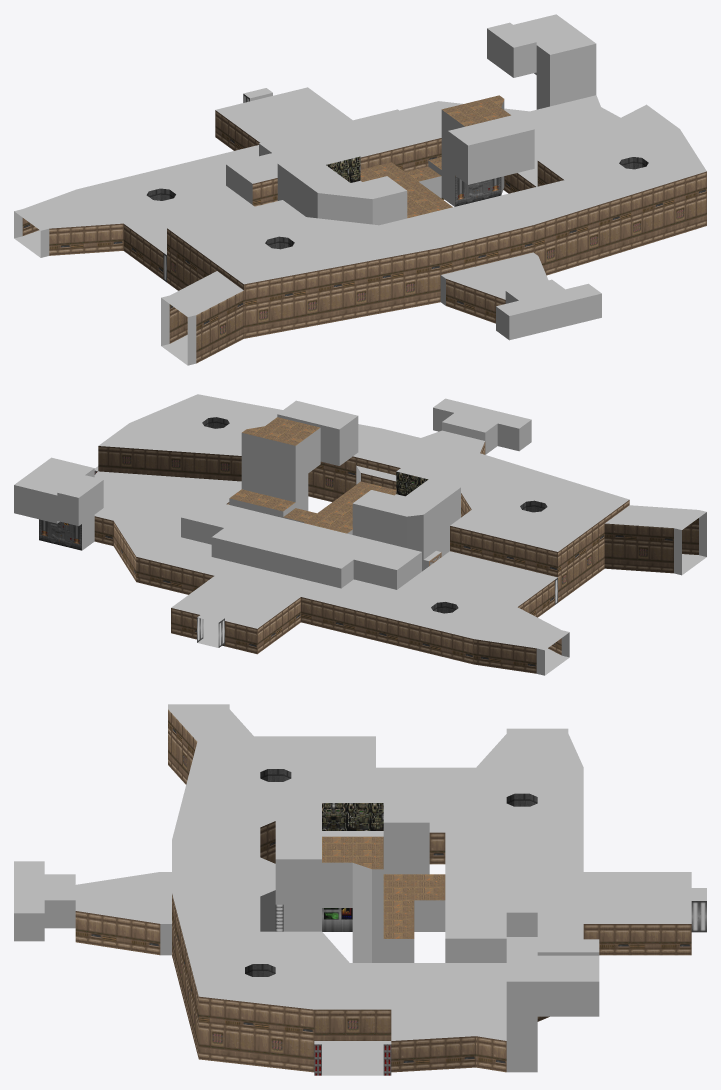
Rendered from untitled_room2.fbx.
3 renders of one model, top to bottom at view 1: azimuth 30°, elevation 25°; view 2: azimuth 150°, elevation 25°; view 3: azimuth 270°, elevation 25°, orthographic. The views are drawn at different scales.
Visible parts, largest first — view 1: E1M2; view 2: E1M2; view 3: E1M2.
Part boxes in pixels (left/top/right/bottom): E1M2: left=14, top=14, right=706, bottom=365; E1M2: left=14, top=394, right=706, bottom=675; E1M2: left=14, top=704, right=706, bottom=1075.
Bounding box in the file's own units: 155200 × 28000 × 144000.
